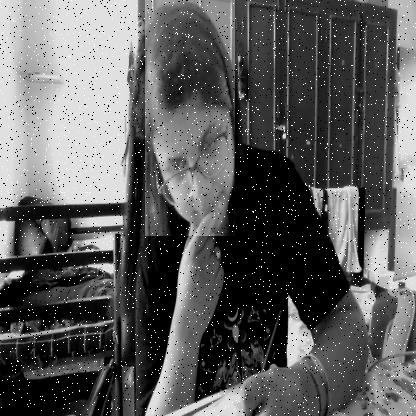Distracted: (145, 0, 235, 236)
